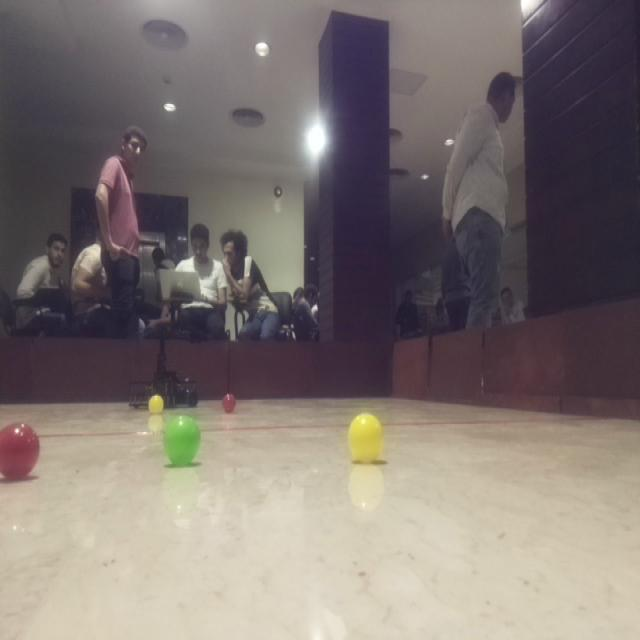ball: (160, 412, 203, 467), (345, 410, 386, 464), (146, 390, 168, 418), (220, 388, 240, 418)
